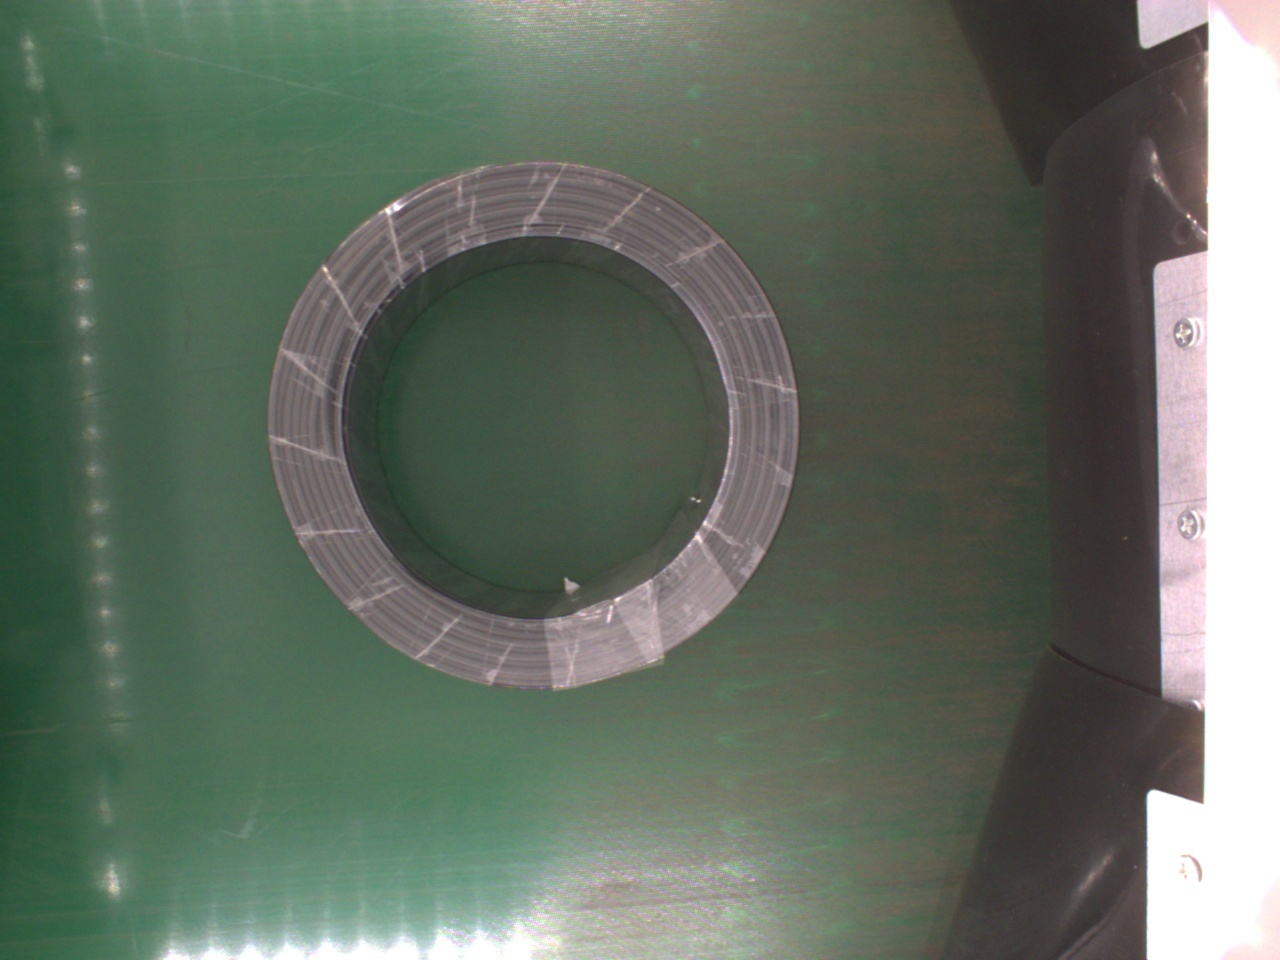black: (267, 158, 800, 695)
